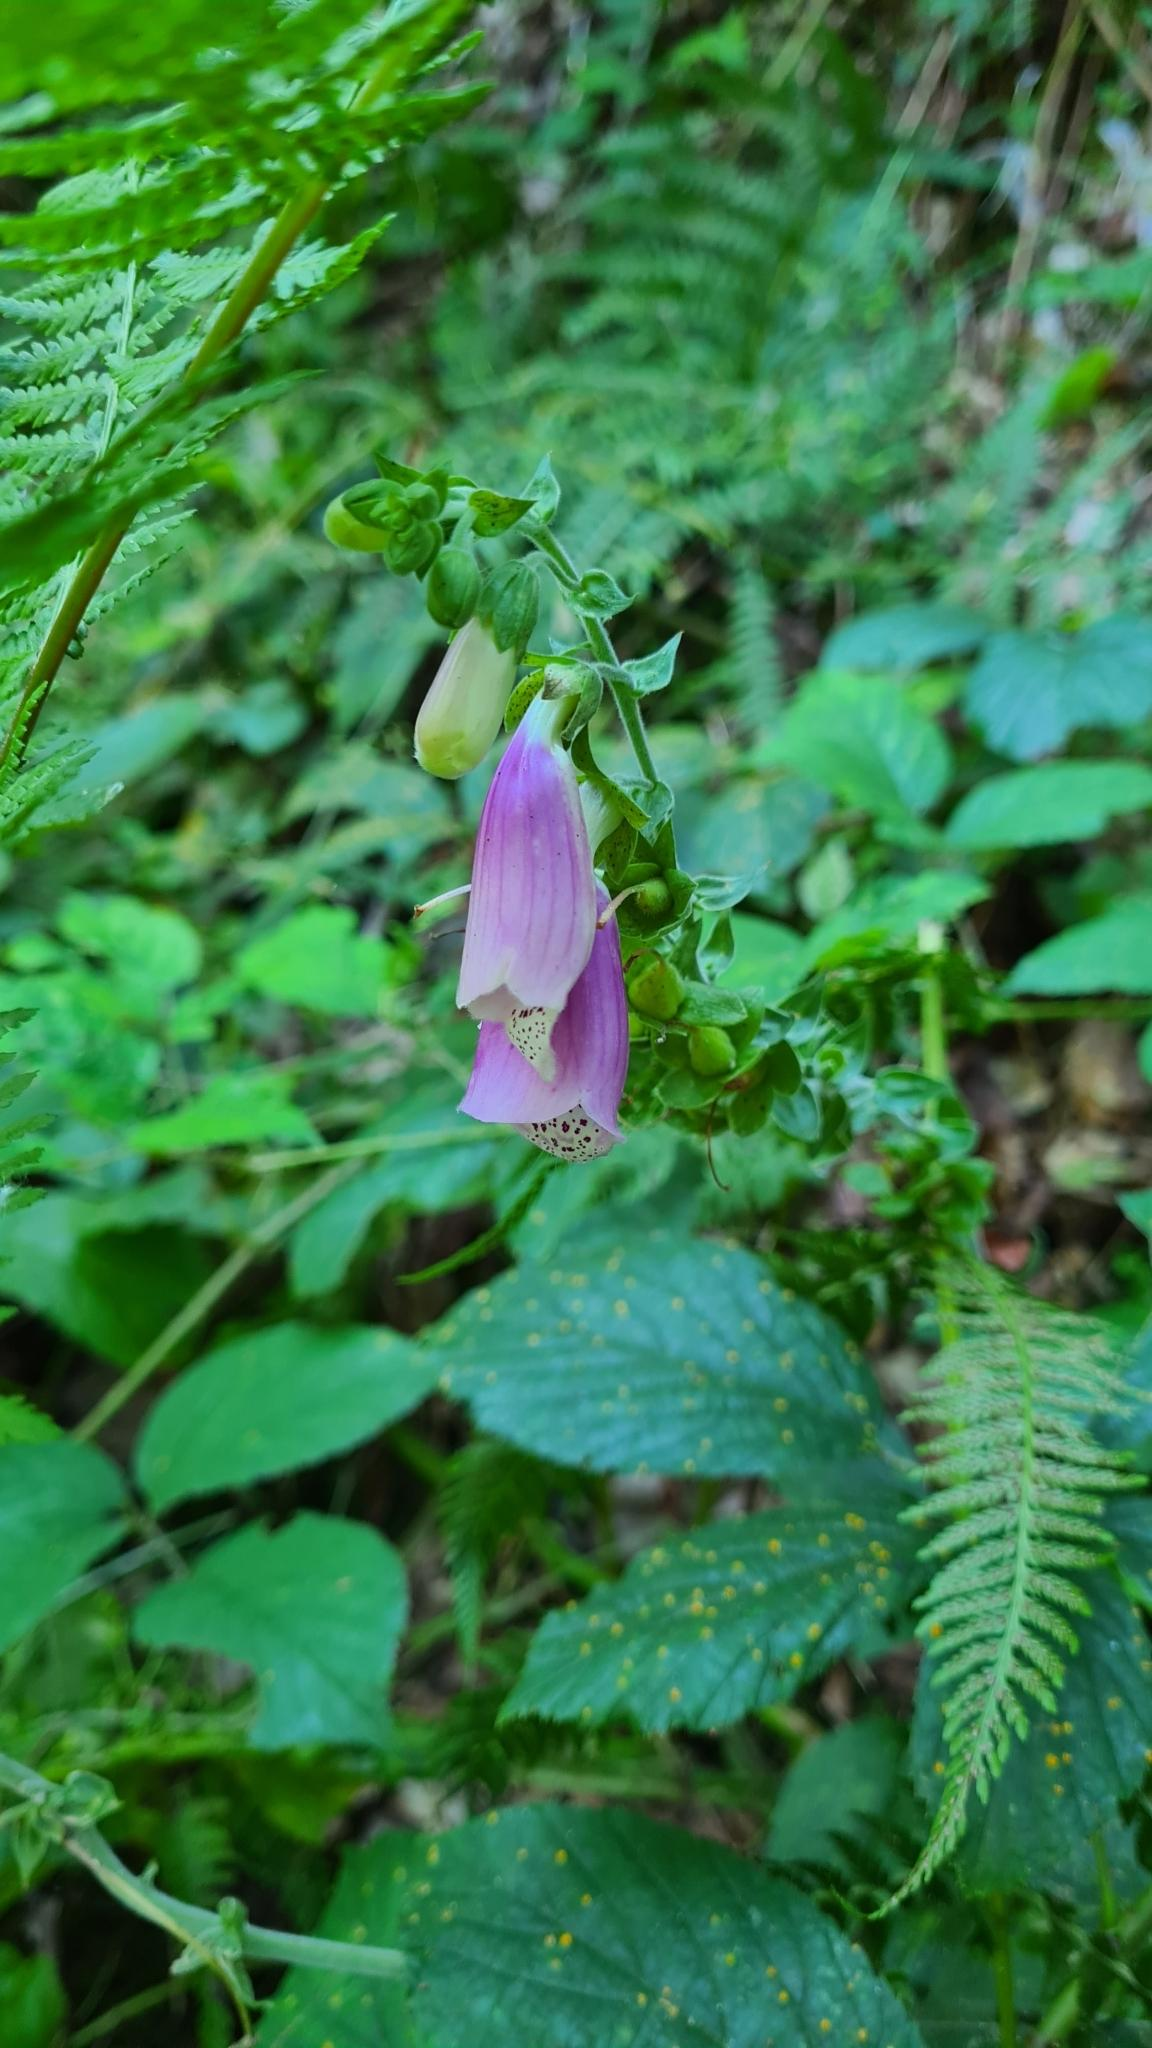Digitalis L: (322, 452, 806, 1162)
